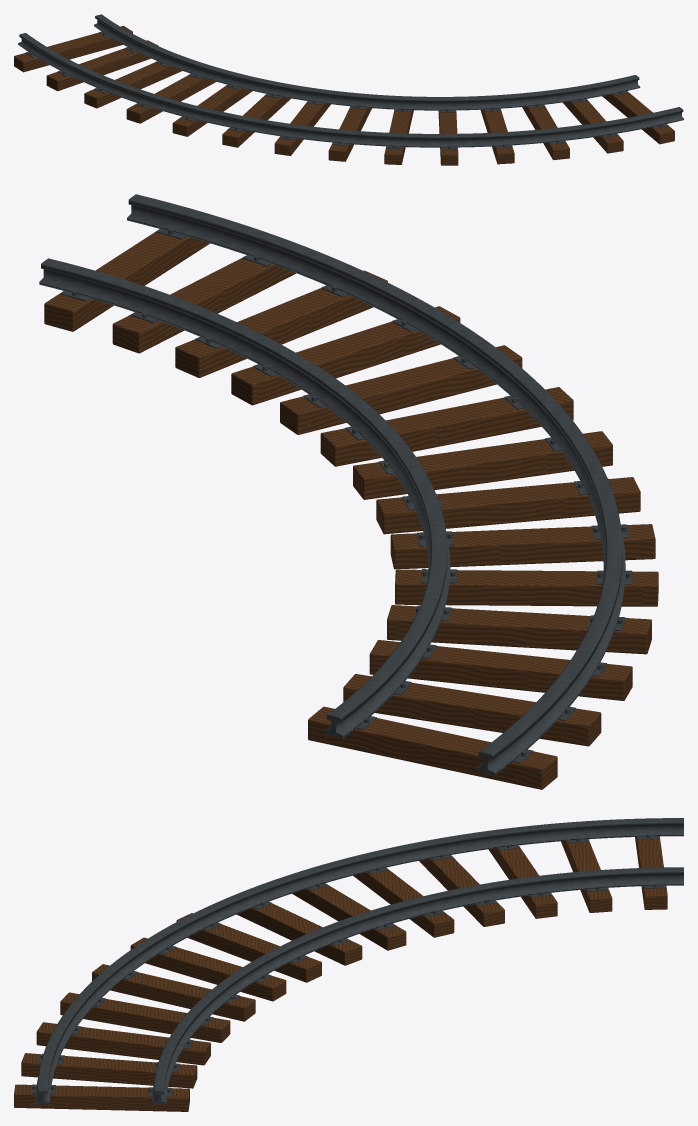
File: Rail_Curve90_R3.fbx
The picture shows the model from 3 angles, top to bottom: view 1: azimuth 30°, elevation 25°; view 2: azimuth 150°, elevation 25°; view 3: azimuth 270°, elevation 25°; orthographic projection. The views are drawn at different scales.
Parts seen in each view (by area): view 1: Ties.001, Rail_Left.001, Rail_Right.001, Fasteners.001; view 2: Ties.001, Rail_Left.001, Rail_Right.001, Fasteners.001; view 3: Ties.001, Rail_Left.001, Rail_Right.001, Fasteners.001.
Boxes of the visible parts, bbox=[...] form: Ties.001: bbox=[14, 25, 674, 165]; Rail_Left.001: bbox=[18, 33, 683, 147]; Rail_Right.001: bbox=[94, 14, 640, 110]; Fasteners.001: bbox=[25, 31, 668, 149]; Ties.001: bbox=[44, 231, 658, 789]; Rail_Left.001: bbox=[127, 194, 625, 775]; Rail_Right.001: bbox=[39, 258, 450, 738]; Fasteners.001: bbox=[60, 228, 632, 763]; Ties.001: bbox=[14, 836, 667, 1111]; Rail_Left.001: bbox=[35, 818, 683, 1104]; Rail_Right.001: bbox=[152, 867, 683, 1104]; Fasteners.001: bbox=[31, 834, 665, 1096].
Size of the model in its own units: 345 by 16 by 345.
3 materials, 3 textured.
